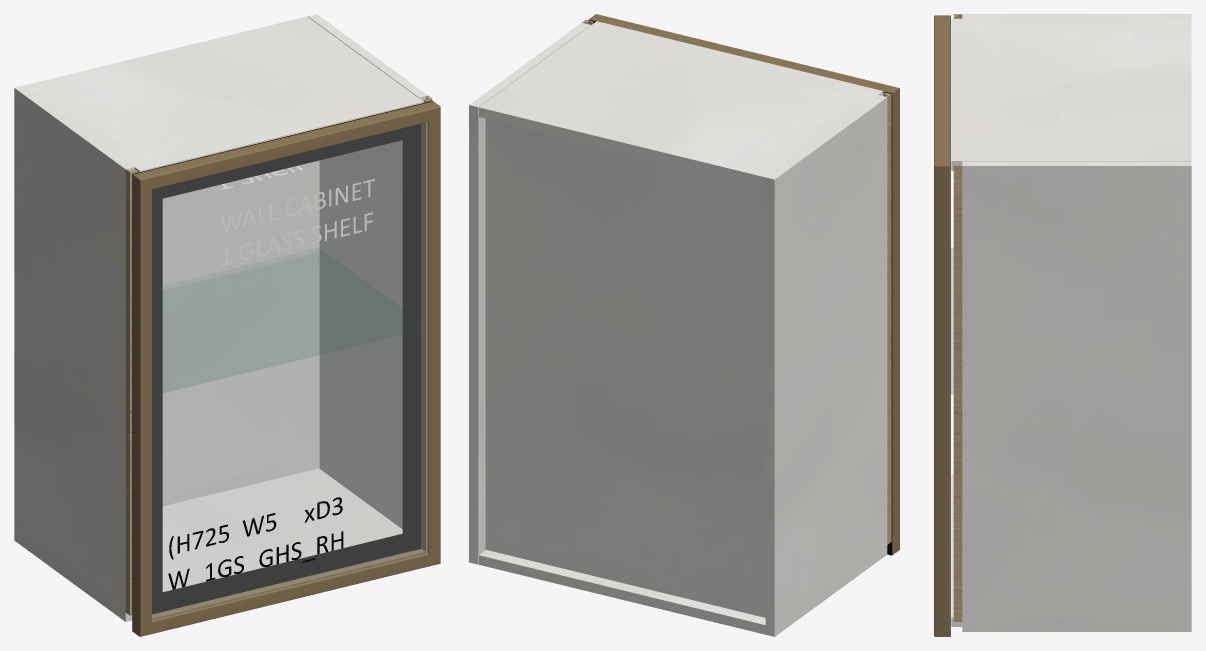
The model's file is WC-SH-NHX-GL-1SG-RHS-XXX-500-725-336-15.glb.
3 views of the same model, side by side, from view 1: azimuth 30°, elevation 25°; view 2: azimuth 150°, elevation 25°; view 3: azimuth 270°, elevation 25° (orthographic). The views are drawn at different scales.
Visible parts, largest first — view 1: Object_node_4, TP_node_0, TP_node_2, TP, TP_node_1, Neon 22 Profile ALU PROF NEON 20 L21XH22.5MM 3MTR S2/405 SEC (×4), Object_node_6, TP_node, Object_node_8, 2D text_node, 2D text, 2D text_node_0; view 2: TP_node_2, TP_node_0, TP, TP_node_1, Neon 22 Profile ALU PROF NEON 20 L21XH22.5MM 3MTR S2/405 SEC (×2), TP_node, Object_node_8, Object_node_6; view 3: TP_node_1, TP, Neon 22 Profile ALU PROF NEON 20 L21XH22.5MM 3MTR S2/405 SEC (×2), Object_node_16, TP_node_0, Object_node_6, TP_node.
Part boxes in pixels (bbox=[...]): Object_node_4: bbox=[152, 122, 427, 620]; TP_node_0: bbox=[14, 85, 134, 621]; TP_node_2: bbox=[162, 160, 319, 506]; TP: bbox=[23, 16, 423, 172]; TP_node_1: bbox=[307, 14, 427, 528]; Neon 22 Profile ALU PROF NEON 20 L21XH22.5MM 3MTR S2/405 SEC (×4): bbox=[133, 101, 440, 636]; Object_node_6: bbox=[132, 101, 432, 631]; TP_node: bbox=[162, 468, 402, 591]; Object_node_8: bbox=[125, 169, 137, 615]; 2D text_node: bbox=[221, 179, 375, 265]; 2D text: bbox=[168, 531, 343, 589]; 2D text_node_0: bbox=[169, 497, 342, 559]; TP_node_2: bbox=[485, 119, 765, 617]; TP_node_0: bbox=[765, 95, 887, 636]; TP: bbox=[479, 21, 883, 186]; TP_node_1: bbox=[469, 22, 590, 564]; Neon 22 Profile ALU PROF NEON 20 L21XH22.5MM 3MTR S2/405 SEC (×2): bbox=[589, 14, 899, 554]; TP_node: bbox=[479, 550, 765, 634]; Object_node_8: bbox=[883, 92, 891, 544]; Object_node_6: bbox=[588, 19, 892, 555]; TP_node_1: bbox=[962, 161, 1191, 631]; TP: bbox=[951, 18, 1191, 170]; Neon 22 Profile ALU PROF NEON 20 L21XH22.5MM 3MTR S2/405 SEC (×2): bbox=[934, 15, 949, 636]; Object_node_16: bbox=[953, 162, 962, 621]; TP_node_0: bbox=[962, 14, 1191, 18]; Object_node_6: bbox=[950, 15, 950, 636]; TP_node: bbox=[951, 474, 962, 626].
Size of what is drawn, in the model's own units: 0.5 by 0.7235 by 0.366.
Materials: 8 (2 with a texture image).
